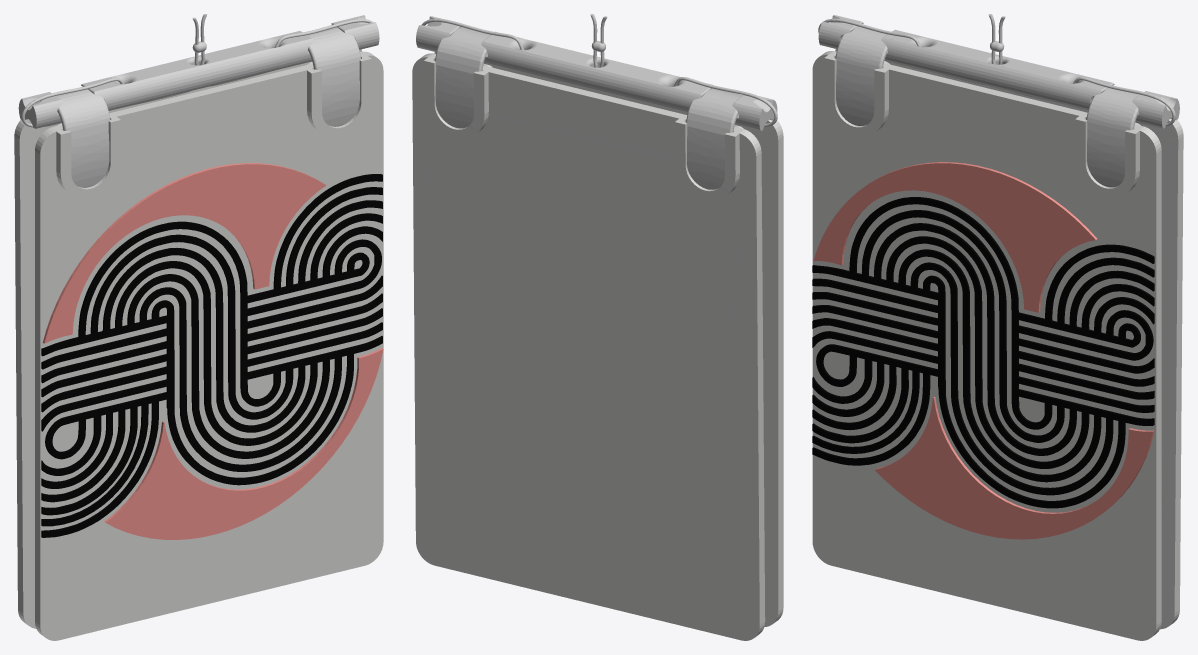
The model's file is tascabile_v2.glb.
3 views of the same model, side by side, from view 1: azimuth 30°, elevation 25°; view 2: azimuth 150°, elevation 25°; view 3: azimuth 330°, elevation 25° (orthographic).
Parts seen in each view (by area): view 1: Body1 (1), Body7, Body2, Body3, Body1, Body1 (2), Body8, Body4 (1), Body10, Body9; view 2: Body1, Body1 (1), Body1 (2), Body4 (1), Body8, Body10, Body9; view 3: Body1 (1), Body7, Body2, Body3, Body1, Body1 (2), Body8, Body4 (1), Body9, Body10.
Part boxes in pixels (x1,y1,x2,y2): Body1 (1): [35, 51, 383, 640]; Body7: [41, 174, 382, 537]; Body2: [42, 163, 326, 343]; Body3: [104, 348, 383, 539]; Body1: [14, 49, 362, 628]; Body1 (2): [18, 15, 379, 128]; Body8: [56, 89, 110, 187]; Body4 (1): [306, 27, 360, 126]; Body10: [21, 17, 198, 127]; Body9: [200, 14, 373, 86]; Body1: [412, 53, 765, 640]; Body1 (1): [434, 52, 783, 626]; Body1 (2): [416, 16, 777, 131]; Body4 (1): [435, 27, 492, 128]; Body8: [686, 88, 743, 189]; Body10: [600, 16, 777, 126]; Body9: [421, 14, 597, 67]; Body1 (1): [812, 51, 1161, 640]; Body7: [812, 197, 1154, 508]; Body2: [813, 162, 1097, 312]; Body3: [875, 397, 1154, 539]; Body1: [835, 49, 1183, 629]; Body1 (2): [818, 15, 1179, 128]; Body8: [835, 26, 889, 125]; Body4 (1): [1086, 88, 1140, 187]; Body9: [998, 16, 1175, 126]; Body10: [818, 14, 995, 86].
Bounding box in the file's own units: 0.0768 × 0.1192 × 0.0134.
